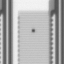dust: (31, 28, 36, 32)
